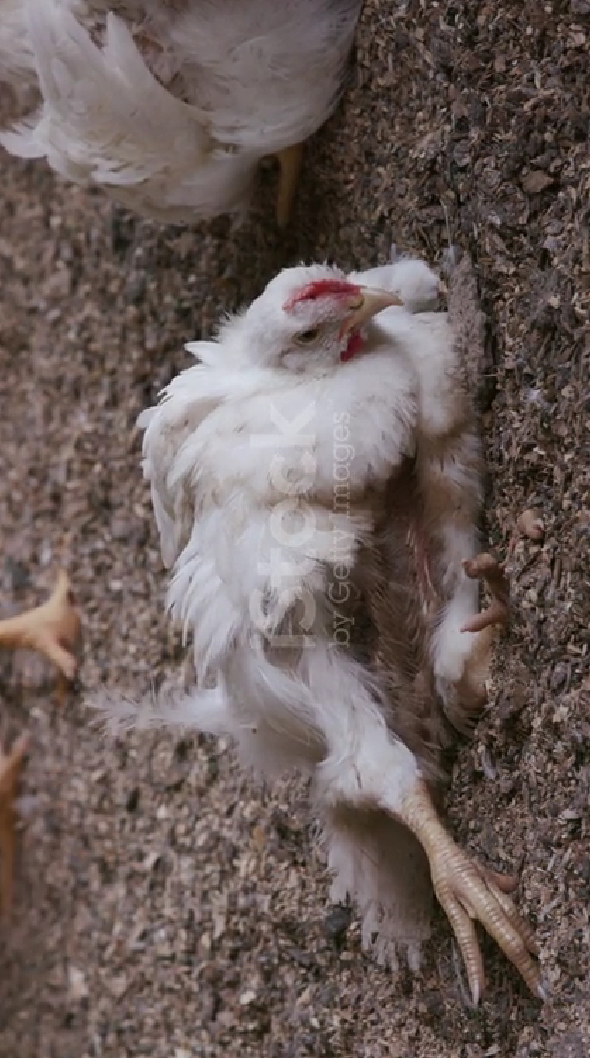Unhealthy: (101, 245, 571, 1024)
